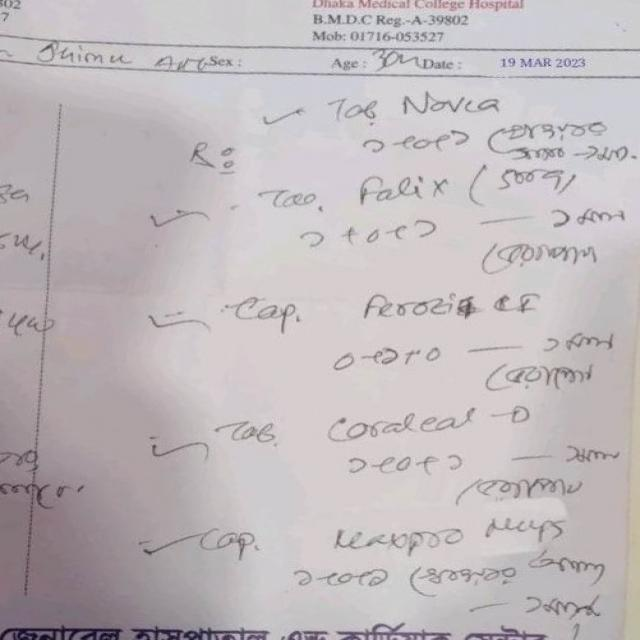Coralcal D: (316, 392, 541, 436)
Ferozi CI: (367, 288, 552, 326)
Folix: (333, 162, 462, 205)
Maxpro Mups: (324, 518, 578, 552)
